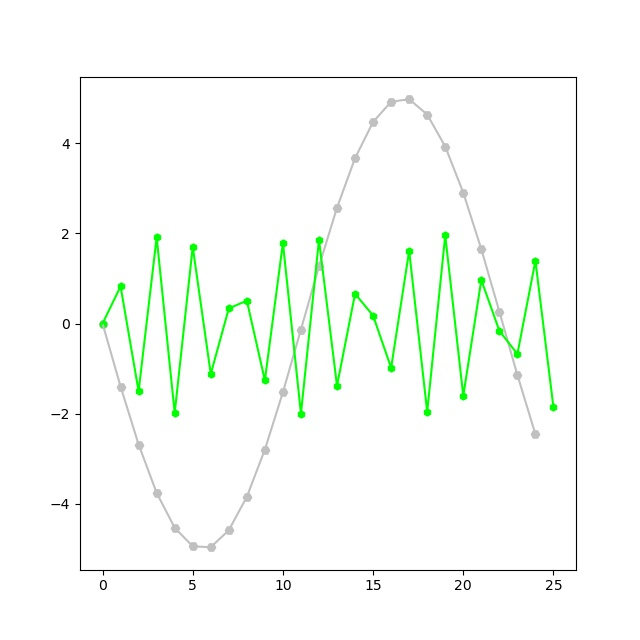hexagon1: (98, 319, 108, 329), (116, 282, 126, 292), (134, 387, 144, 397), (152, 233, 162, 243), (170, 409, 180, 419), (188, 242, 198, 252), (206, 369, 216, 379), (224, 304, 234, 314), (242, 296, 252, 306), (260, 376, 270, 386), (278, 238, 288, 248), (296, 409, 306, 419), (314, 235, 324, 245), (333, 381, 343, 391), (351, 289, 361, 299), (369, 311, 379, 321), (387, 363, 397, 373), (405, 246, 415, 256), (423, 407, 433, 417), (441, 231, 451, 241), (459, 391, 469, 401), (477, 275, 487, 285), (495, 326, 505, 336), (513, 350, 523, 360), (531, 256, 541, 266), (549, 403, 559, 413)
hexagon2: (98, 319, 109, 330), (116, 382, 127, 393), (134, 440, 145, 451), (152, 488, 163, 499), (170, 523, 181, 534), (188, 541, 199, 552), (206, 542, 217, 553), (224, 525, 235, 536), (242, 492, 253, 503), (260, 445, 271, 456), (278, 387, 289, 398), (296, 325, 307, 336), (314, 261, 325, 272), (332, 203, 343, 214), (350, 153, 361, 164), (368, 117, 379, 128), (386, 97, 397, 108), (404, 94, 415, 105), (422, 110, 433, 121), (440, 142, 451, 153), (458, 188, 469, 199), (476, 244, 487, 255), (494, 307, 505, 318), (512, 370, 523, 381), (530, 429, 541, 440)
